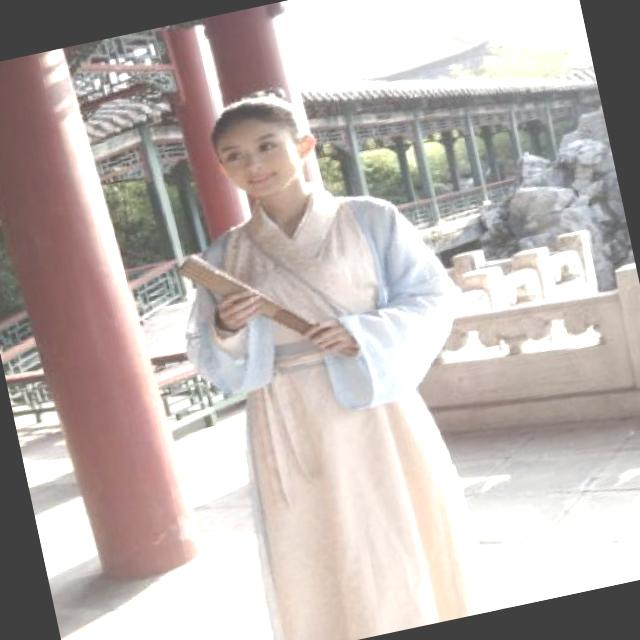Person: (87, 43, 534, 640)
